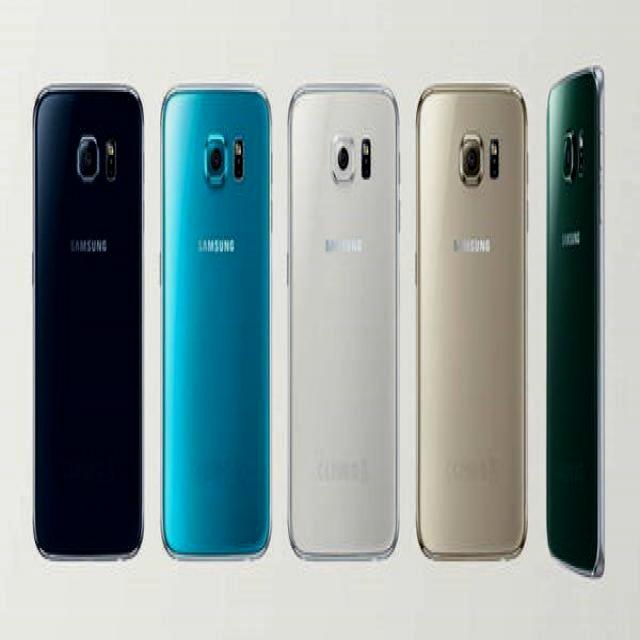lens: (64, 124, 120, 184), (455, 129, 503, 187), (202, 131, 248, 190), (331, 128, 373, 190), (560, 128, 586, 183)
phone: (158, 85, 276, 564), (416, 79, 530, 566), (32, 82, 146, 561), (288, 84, 402, 562), (543, 62, 611, 580)
